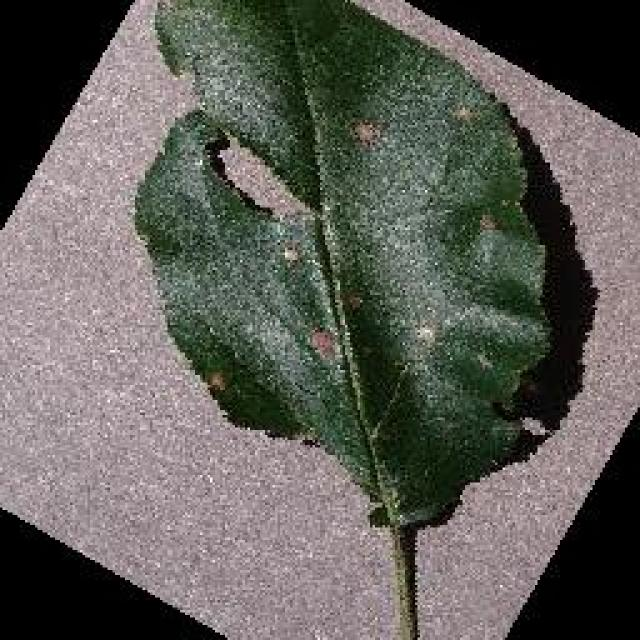Black_rot: (130, 0, 555, 530)
